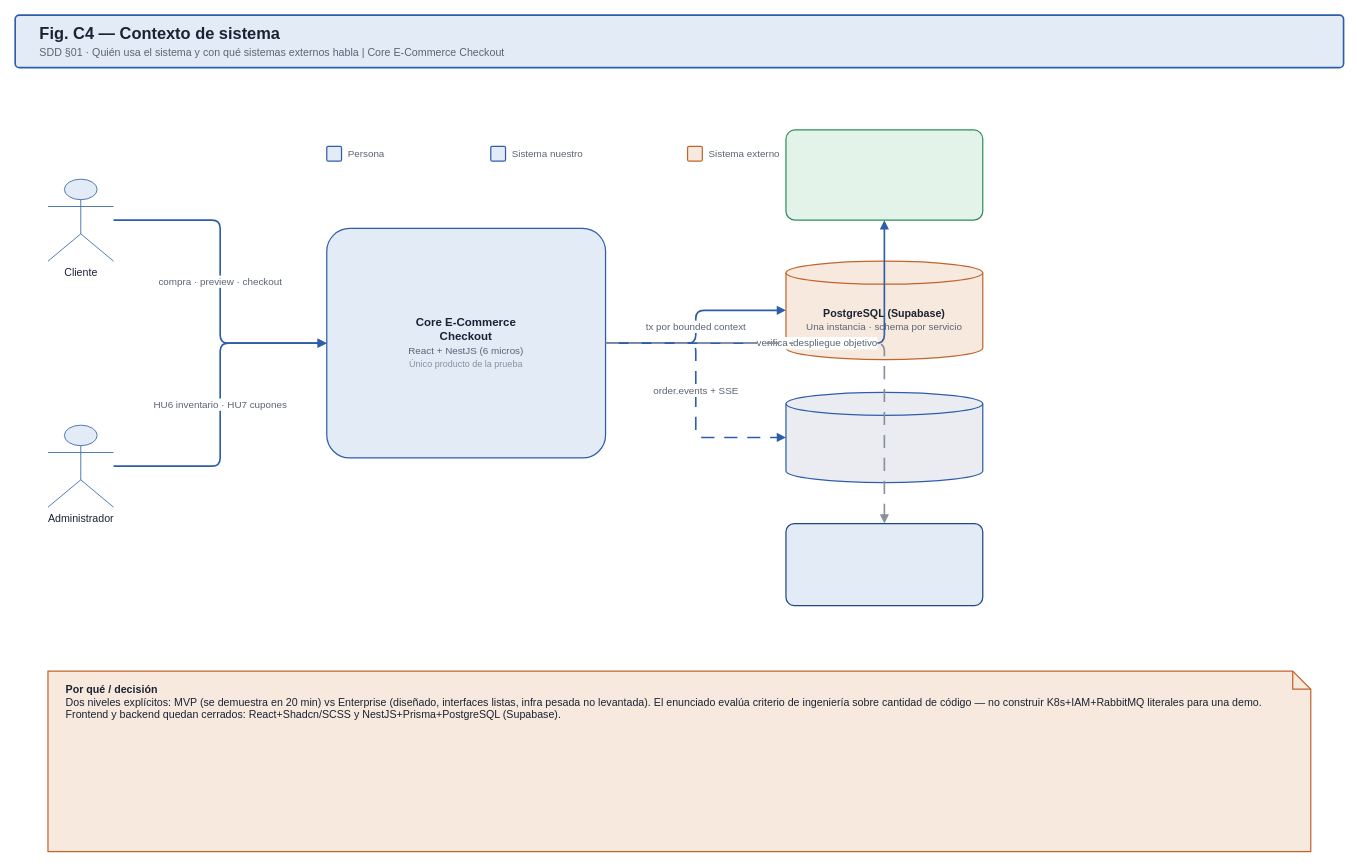
Some shapes in this 1358 by 866 pixel diagram are drawn without their labels. The shapes that lost their labels are listed below. From the top down, each one's box as (x1, y1, x2, y2) in pixels, then its label:
(785, 129, 983, 220): Supabase Auth Identidad email/password JWKS · JWT (JWS)
(785, 391, 983, 483): Redis Pub/Sub · cache · semáforo pool
(785, 523, 983, 606): GCP / GKE Nivel Enterprise No se levanta en la demo de 20 min
